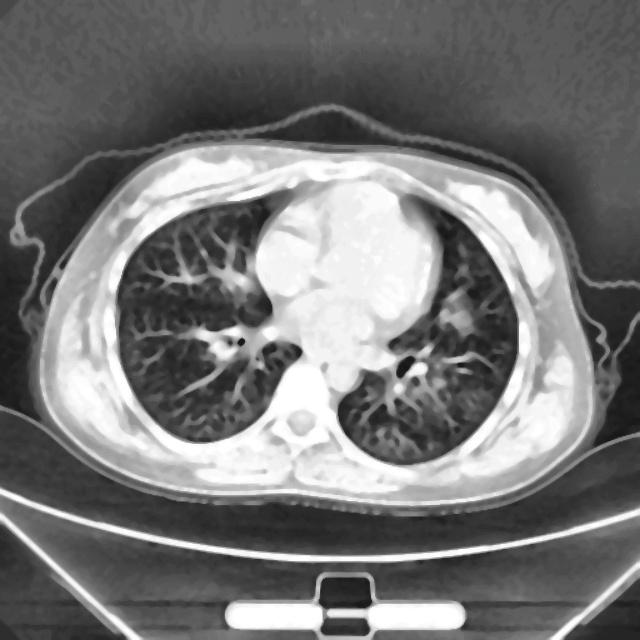covid: (24, 122, 614, 515)
